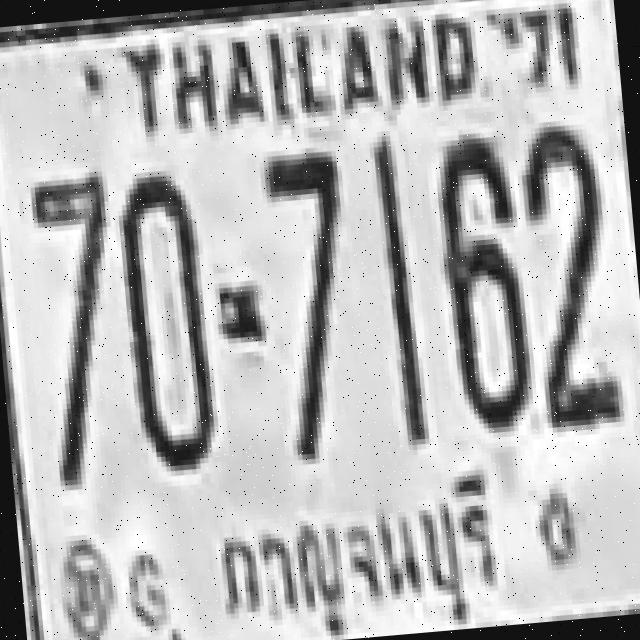1: (370, 135, 416, 360)
2: (526, 196, 622, 425)
7: (260, 148, 350, 342), (27, 168, 118, 347)
Kanchanaburi: (197, 461, 521, 640)
